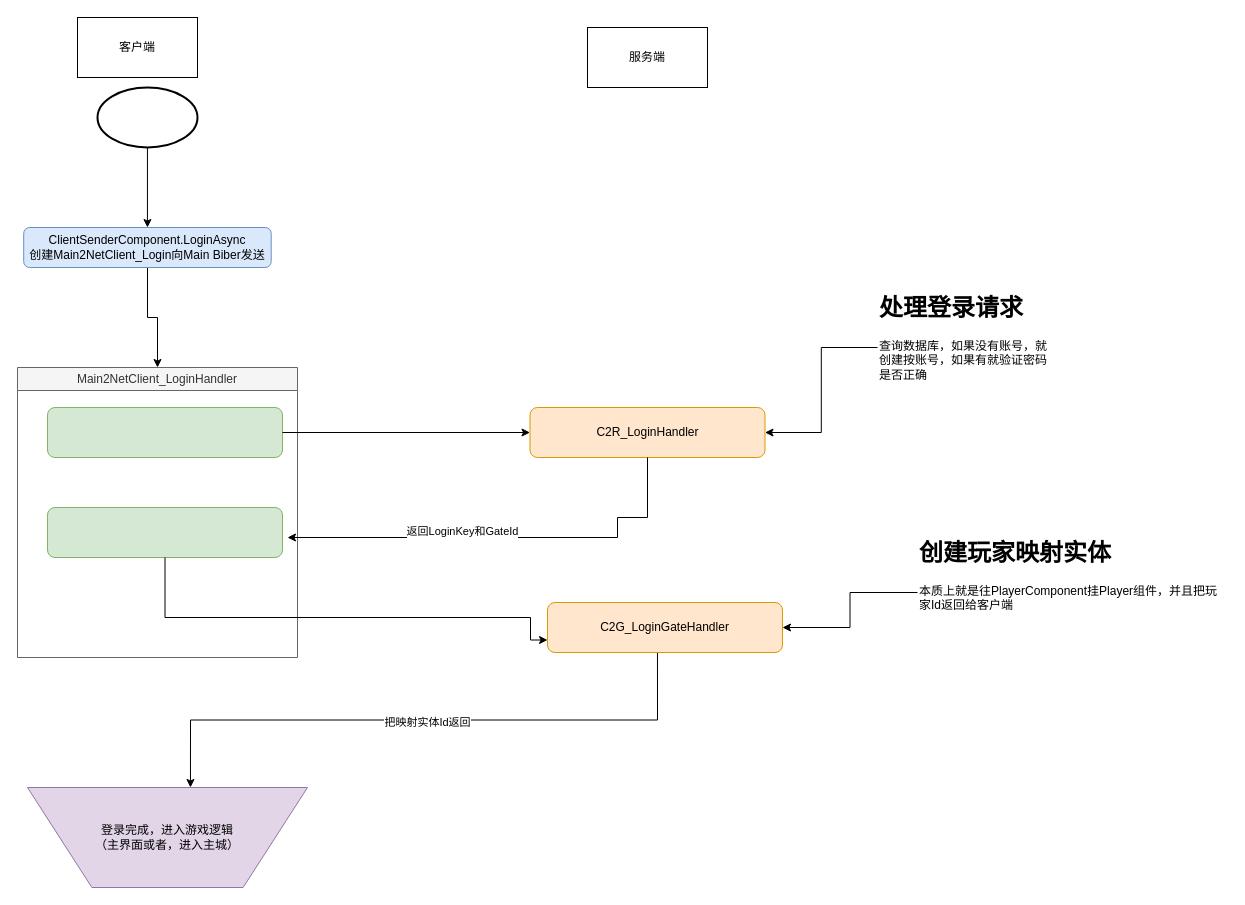
Image size: 1245x905. Some labels were removed from this diagram. The centre of each missing label's shape, as x and y in pixels:
C2R_Login: point 164,432
G2C_LoginGate: point 164,532
LoginHelper.LogIn: point 147,117
